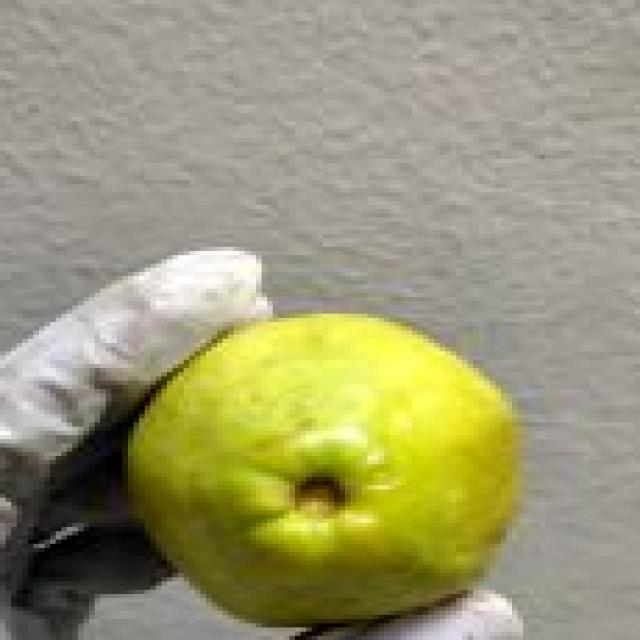Good_Guava 5-7 days: (122, 314, 523, 632)
